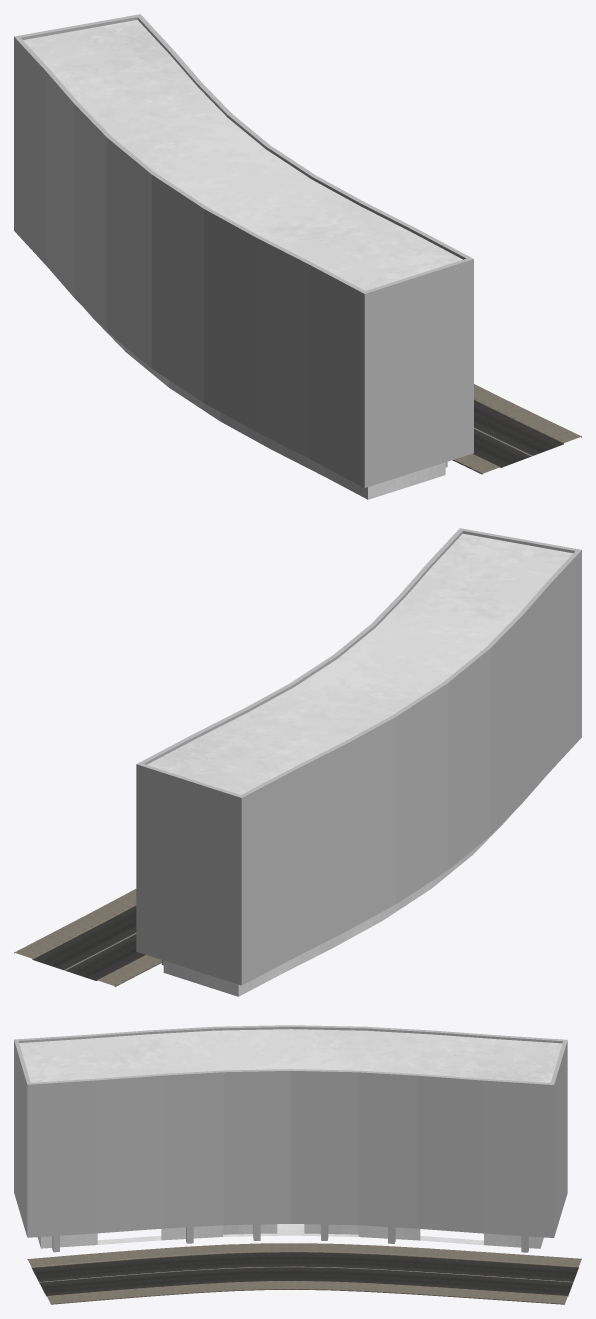
Rendered from grandhotel_01.fbx.
3 views of the same model, one above another, from view 1: azimuth 30°, elevation 25°; view 2: azimuth 150°, elevation 25°; view 3: azimuth 270°, elevation 25° (orthographic). The views are drawn at different scales.
Visible parts, largest first — view 1: Cube, Plane.001; view 2: Cube, Plane.001; view 3: Cube, Plane.001.
Part boxes in pixels (<box>): Cube: <box>14,14,473,499</box>; Plane.001: <box>452,384,581,474</box>; Cube: <box>136,528,581,996</box>; Plane.001: <box>14,889,161,986</box>; Cube: <box>14,1025,567,1252</box>; Plane.001: <box>27,1243,581,1304</box>.
Size of the model in its own units: 5238 by 3972 by 11775.
